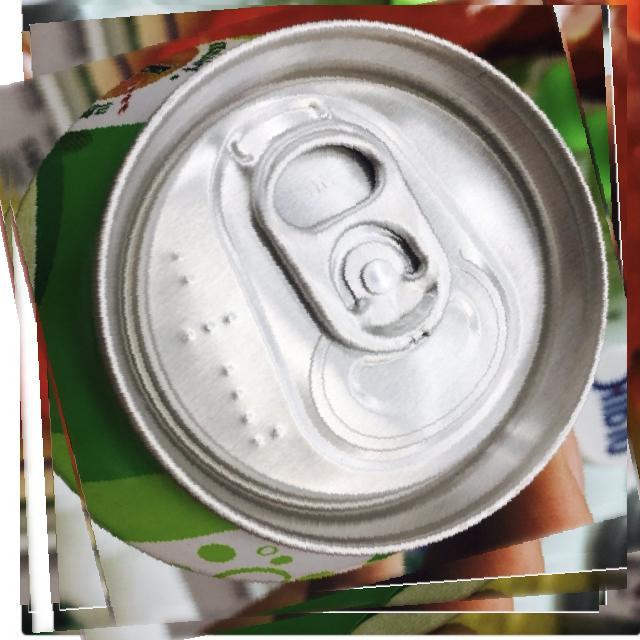recyclable: (0, 5, 627, 633)
